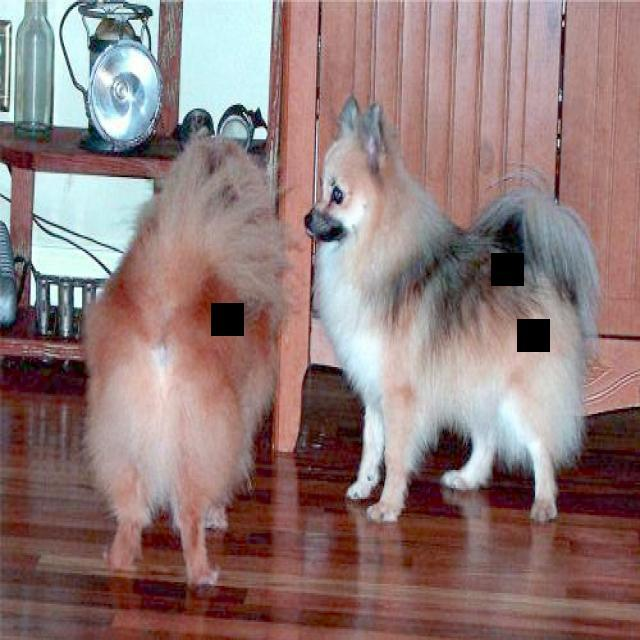adult_dog: (302, 92, 602, 526), (83, 131, 282, 586)
